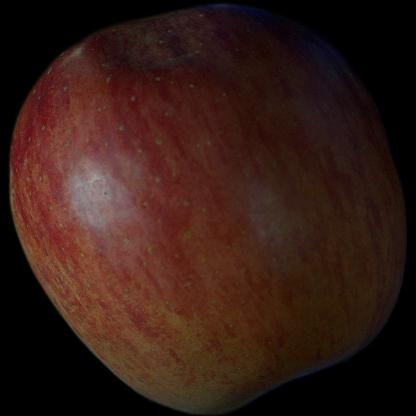defect: (128, 14, 218, 82)
